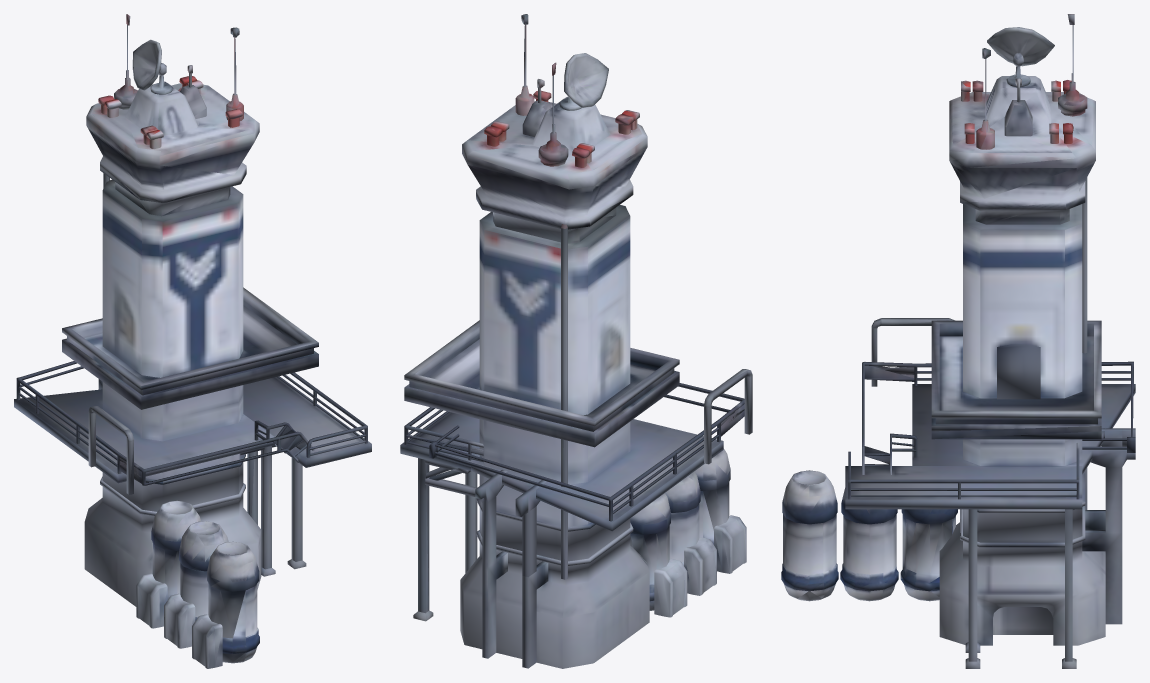
The model's file is 整備庫_01_管制塔.glb.
3 renders of one model, left to right at view 1: azimuth 30°, elevation 25°; view 2: azimuth 150°, elevation 25°; view 3: azimuth 270°, elevation 25°, orthographic. The views are drawn at different scales.
Parts seen in each view (by area): view 1: 01_管制塔; view 2: 01_管制塔; view 3: 01_管制塔.
Part boxes in pixels (x1,y1,x2,y2): 01_管制塔: (14, 14, 371, 668); 01_管制塔: (400, 14, 752, 668); 01_管制塔: (781, 14, 1135, 668).
Size of the model in its own units: 0.1436 by 0.3257 by 0.1782.
Materials: 1 (1 with a texture image).
